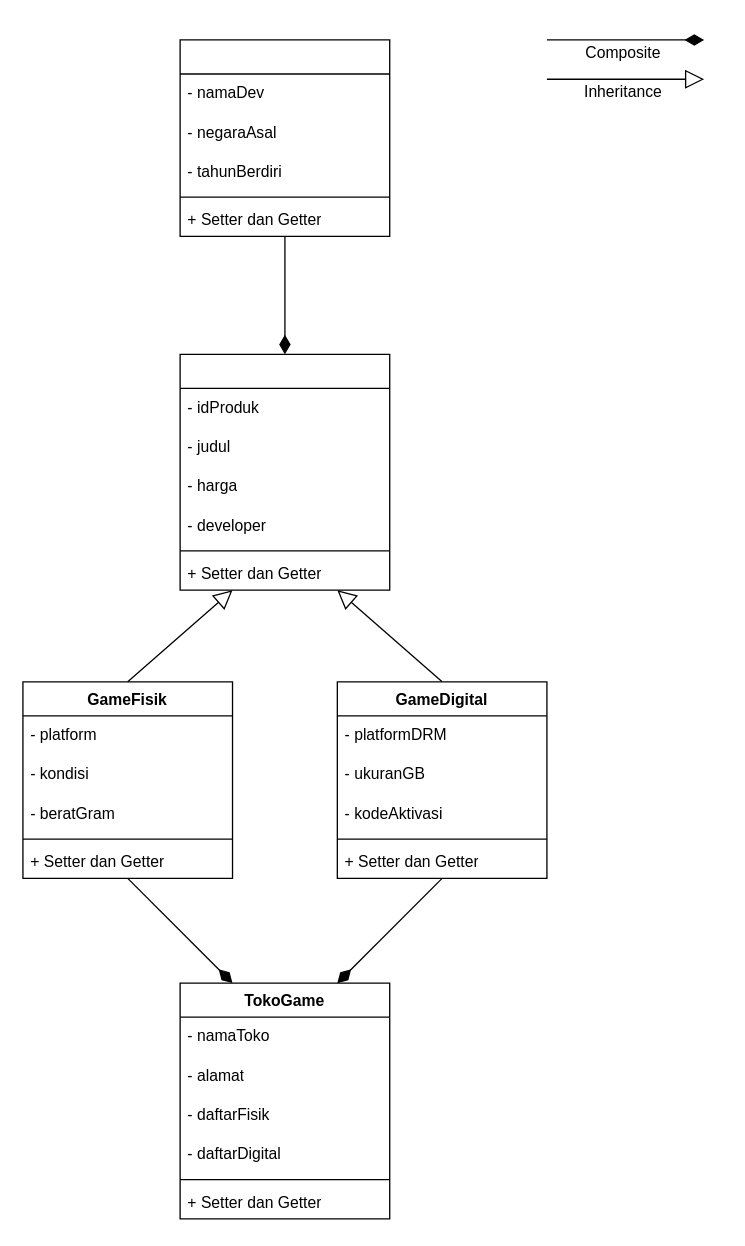
This 745x1246 diagram has some shape labels left out. Here are the shapes that lost their labels. From the top down, the box of each, then its label:
(179, 39, 390, 236): Developer
(179, 353, 390, 590): ProdukGame
